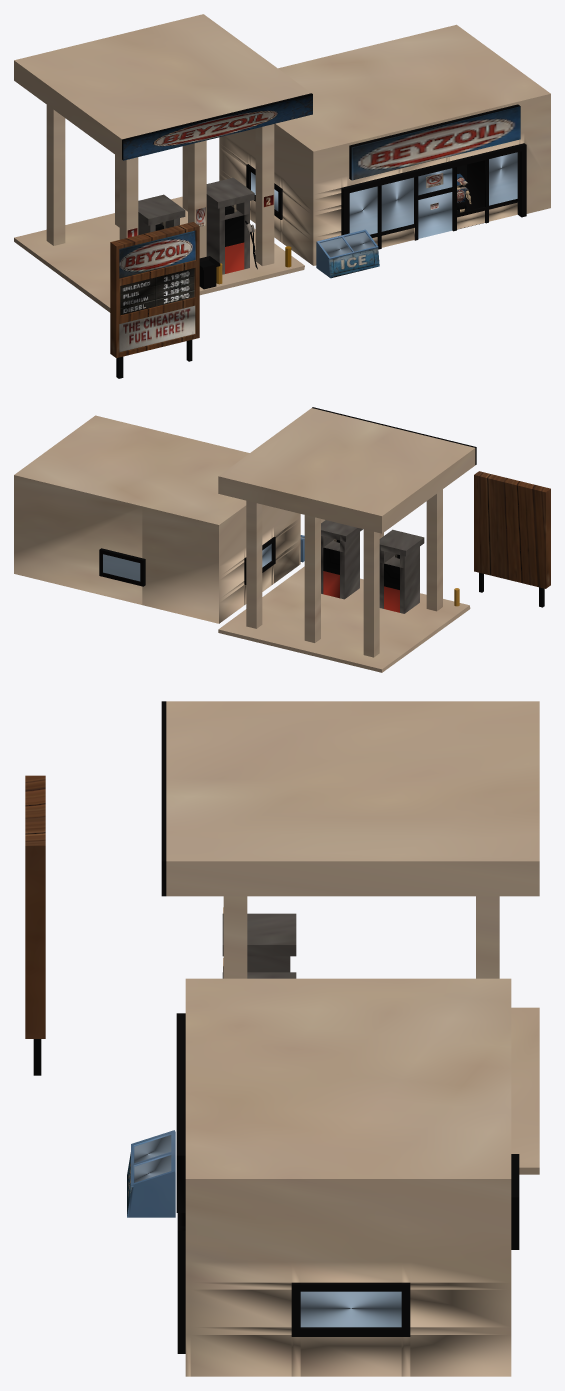
Rendered from benzinlik yeni.fbx.
The picture shows the model from 3 angles, top to bottom: view 1: azimuth 30°, elevation 25°; view 2: azimuth 150°, elevation 25°; view 3: azimuth 270°, elevation 25°; orthographic projection. The views are drawn at different scales.
Parts seen in each view (by area): view 1: Cube.007, Cube.001, Cube.018; view 2: Cube.001, Cube.007, Cube.018; view 3: Cube.007, Cube.001, Cube.018.
Boxes of the visible parts, bbox=[...] form: Cube.007: bbox=[219, 24, 550, 278]; Cube.001: bbox=[14, 14, 312, 312]; Cube.018: bbox=[110, 222, 199, 378]; Cube.001: bbox=[218, 407, 476, 672]; Cube.007: bbox=[14, 415, 304, 623]; Cube.018: bbox=[474, 471, 550, 607]; Cube.007: bbox=[127, 978, 519, 1376]; Cube.001: bbox=[161, 701, 539, 1174]; Cube.018: bbox=[25, 775, 45, 1075].
Size of the model in its own units: 1425 by 566 by 760.
1 material, 1 textured.
